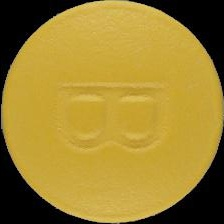63629-1561: (0, 0, 224, 224)
